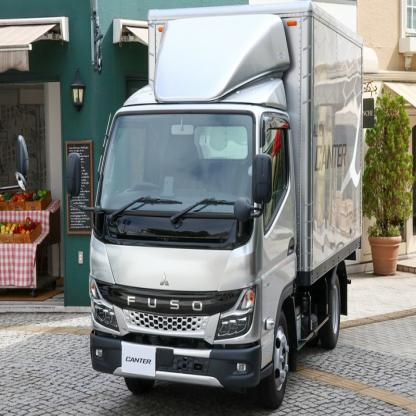truck: (68, 7, 363, 412)
